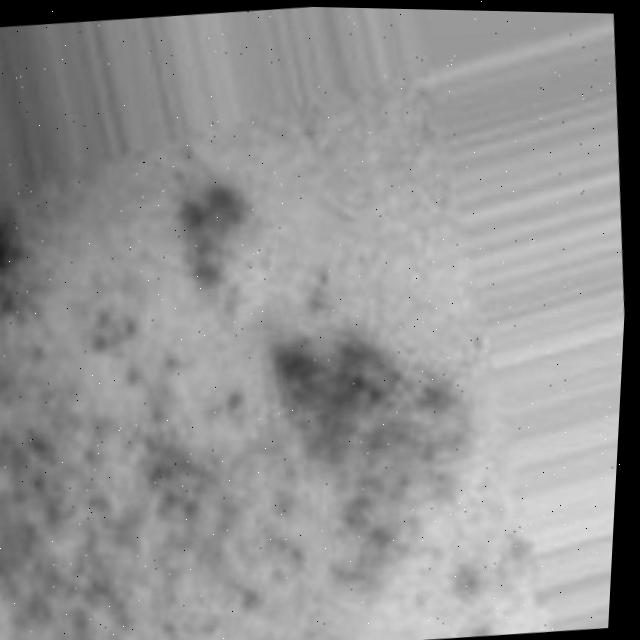Shingles: (0, 383, 266, 629), (287, 343, 467, 532), (155, 187, 250, 288)
